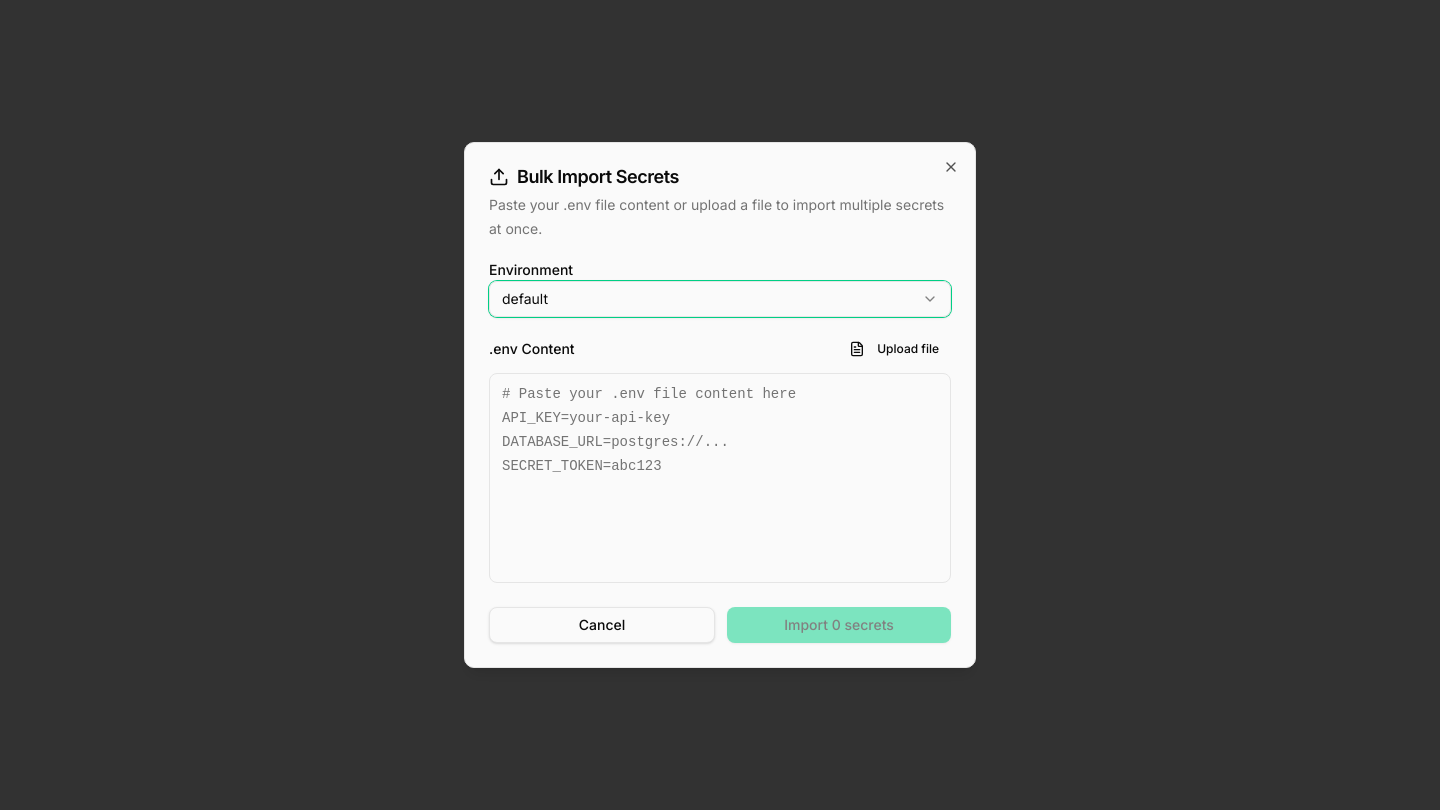
Scenario: BulkImportModal › loading state › should show loading text during import
In the text box with placeholder "Paste your .env file content": (720, 478) [489, 373, 951, 583], type "API_KEY=value"
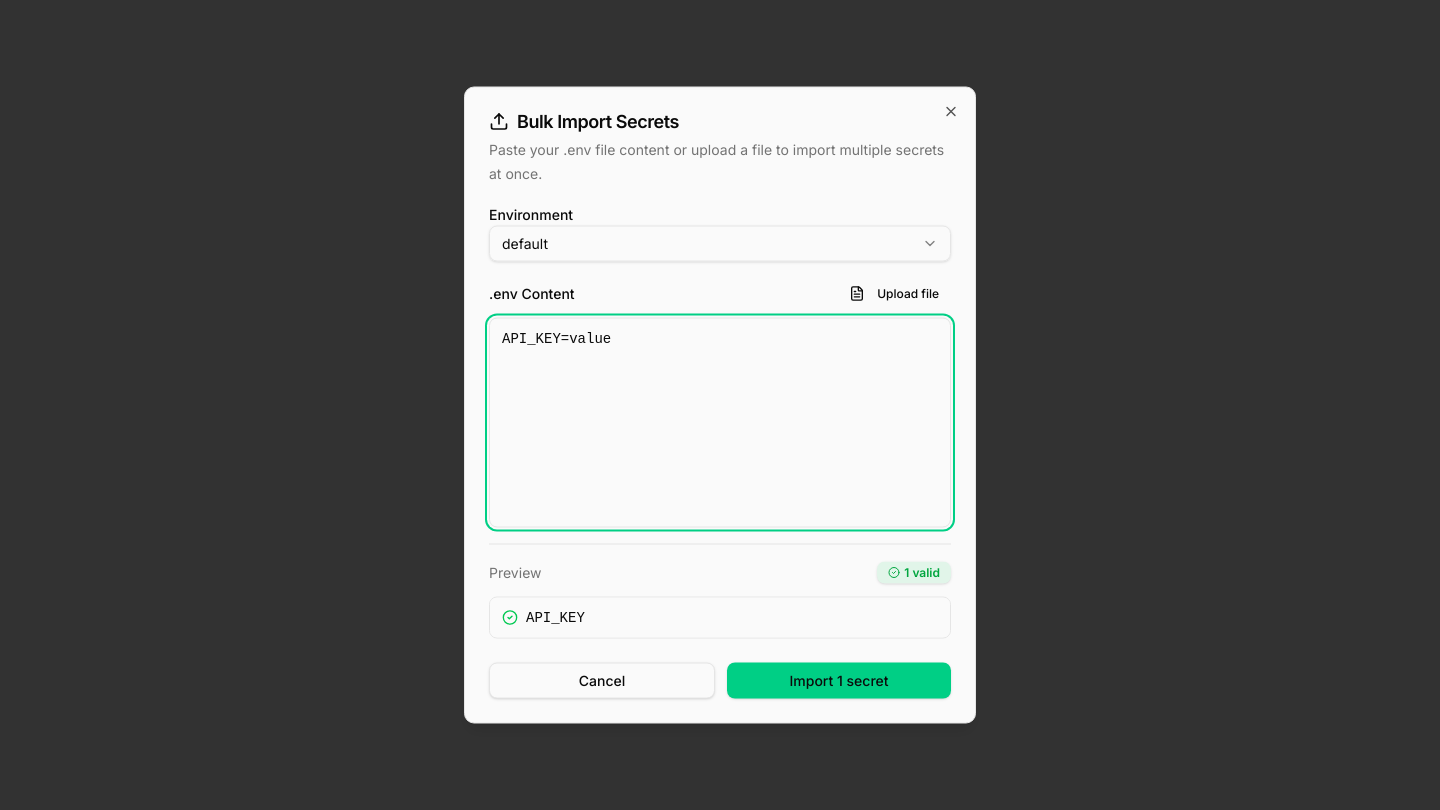
Expected: the text "1 valid" is shown, [877, 562, 951, 584]
Click the button "Import 1 secret": (839, 680) [727, 662, 951, 698]
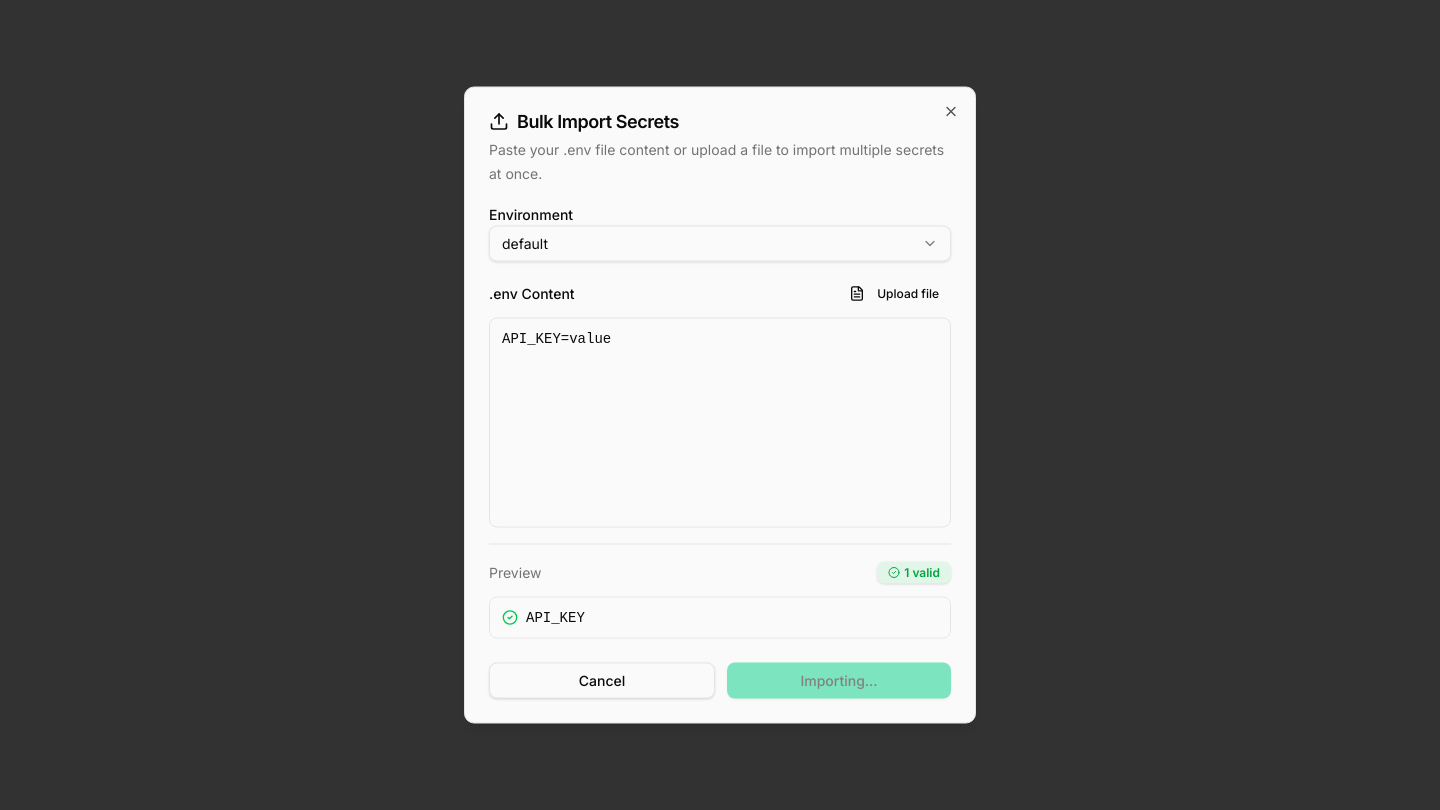
Expected: the button "Importing..." is shown, [727, 662, 951, 698]
